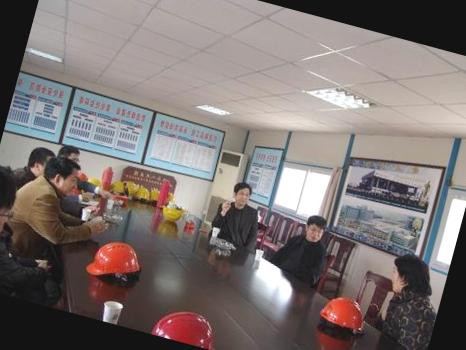no_helmet: (382, 248, 436, 304), (0, 167, 25, 252), (40, 152, 82, 198), (23, 144, 62, 186), (298, 210, 332, 248), (228, 178, 256, 210), (55, 140, 84, 170)
